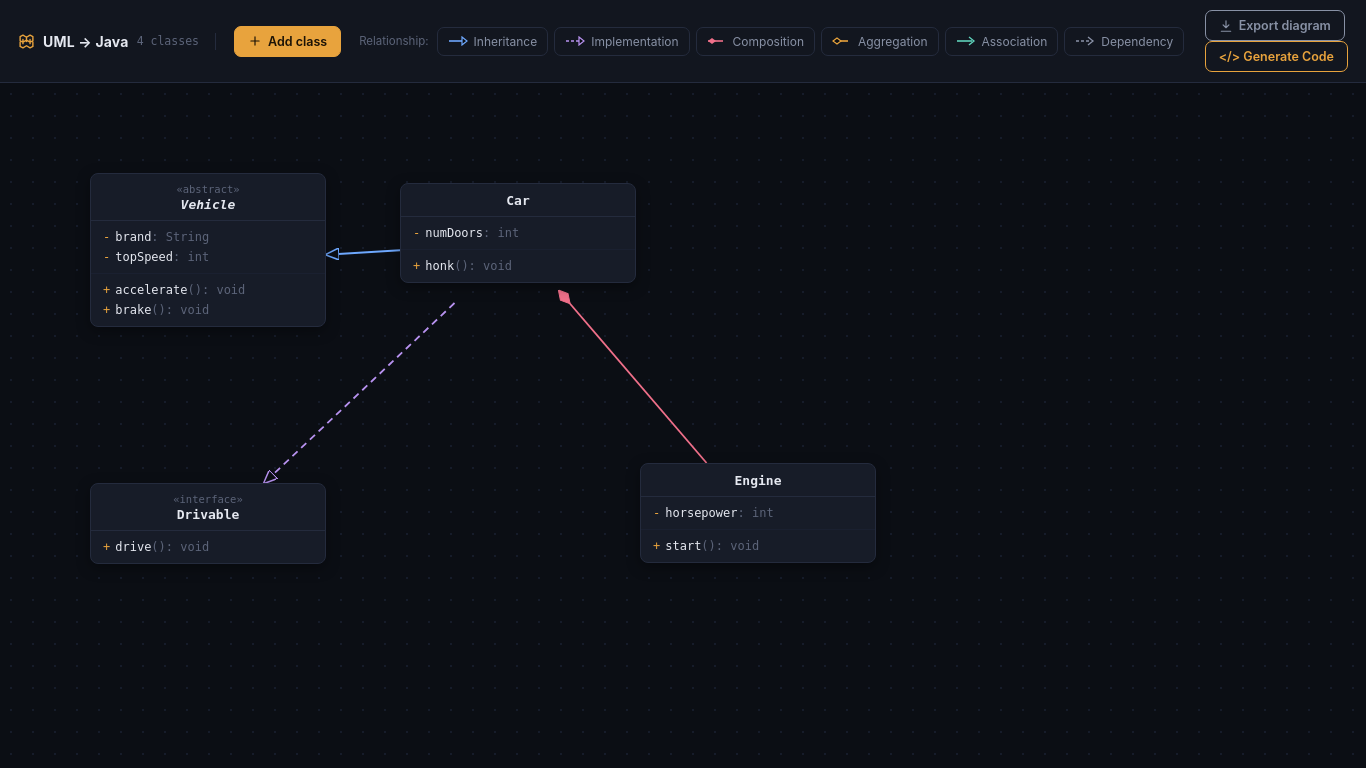
Test case: opens class editing from the right-click menu
This screenshot has width=1366, height=768.
Right-click the text "Car".
right_click(518, 200)  # box [506, 193, 530, 208]
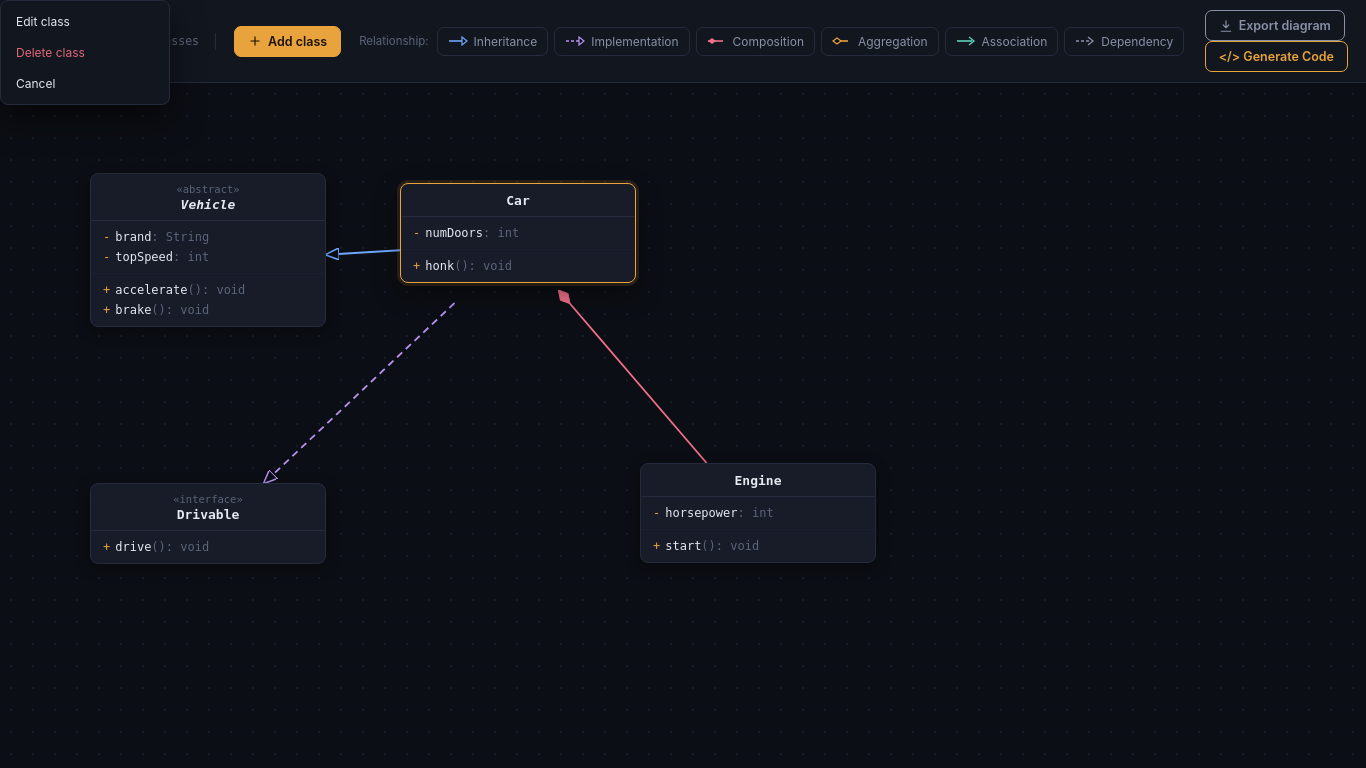
Click the button "Edit class".
click(85, 22)  # box [6, 6, 164, 37]
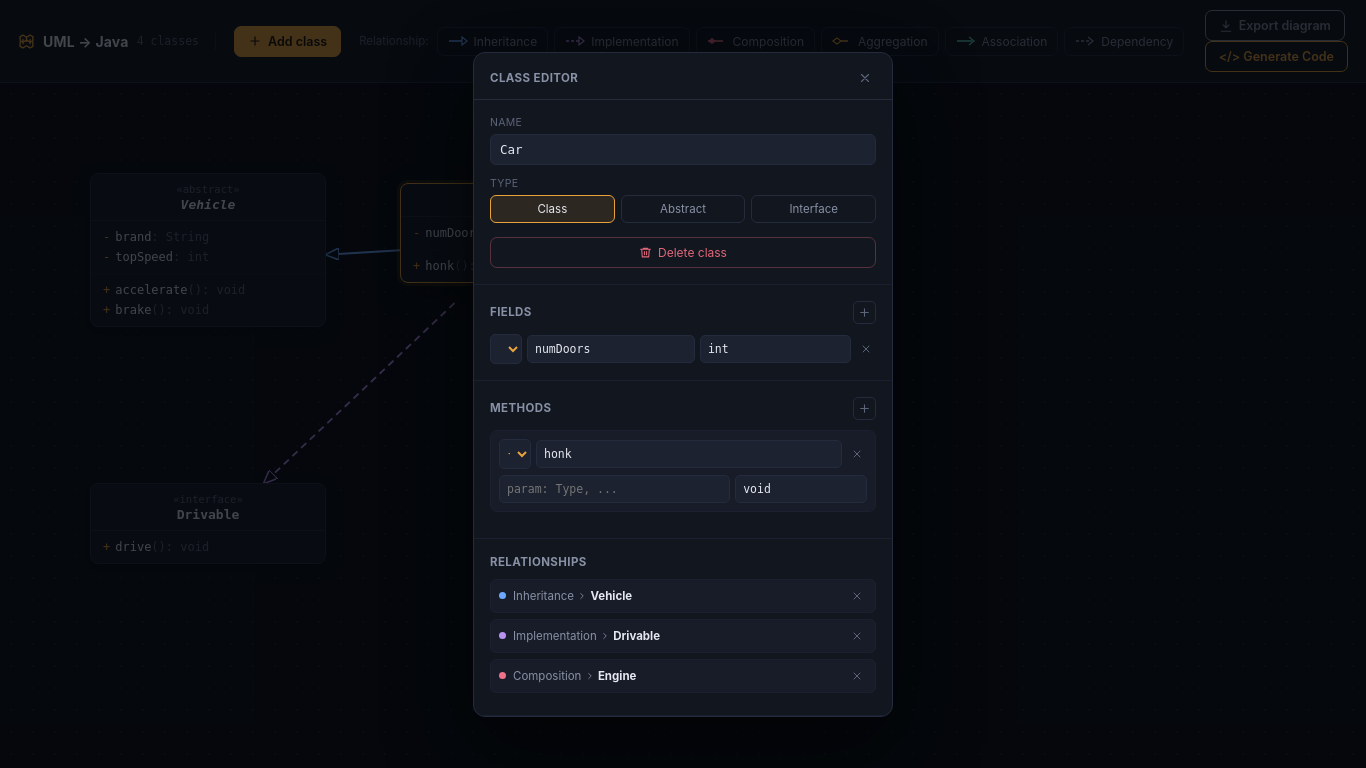
Now the text "CLASS EDITOR" is shown, box [490, 70, 578, 84]
Now the field showing "Car" below "NAME" is shown, box [490, 134, 876, 164]
